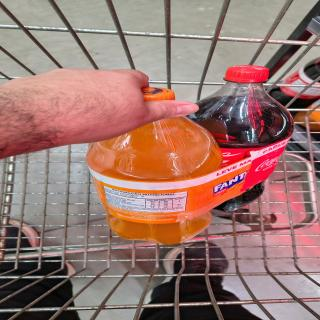beverage: (106, 87, 223, 250), (184, 56, 279, 210)
